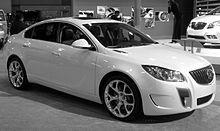car: (1, 11, 220, 117)
